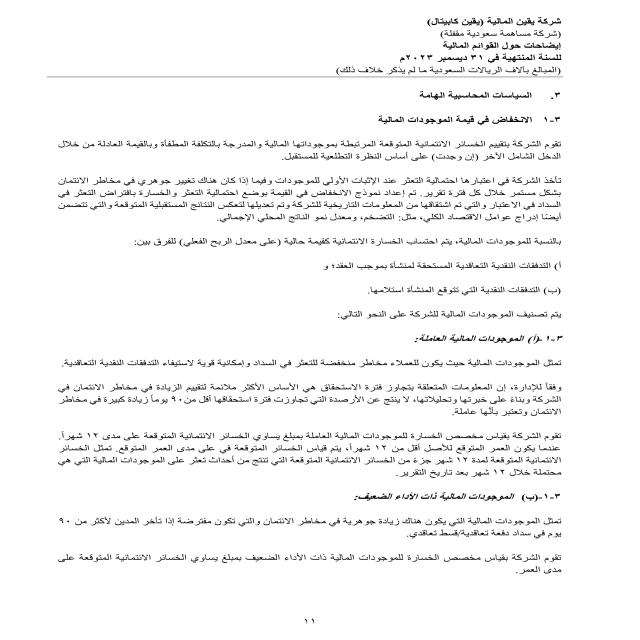notes: (427, 42, 568, 52)
text: (44, 86, 566, 590)
